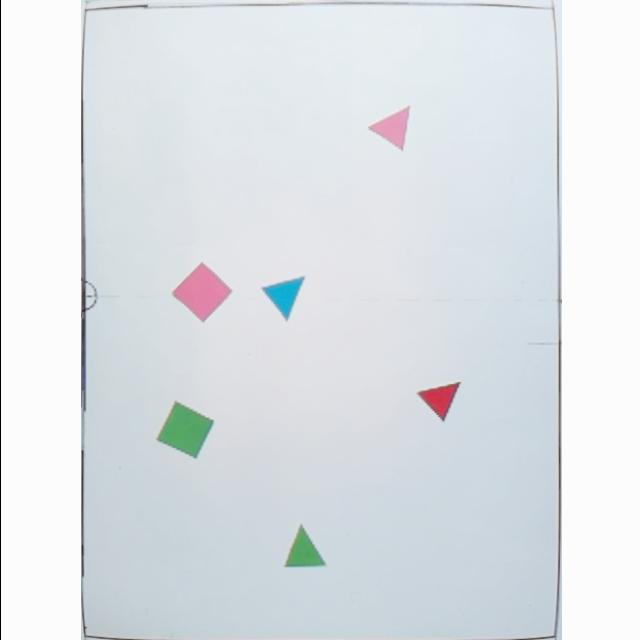blueTriangle: (258, 274, 306, 324)
greenSquare: (154, 402, 214, 460)
greenTriangle: (280, 521, 326, 569)
pinkSquare: (169, 260, 231, 324)
pinkTriangle: (363, 103, 411, 153)
redTriangle: (414, 380, 461, 422)
